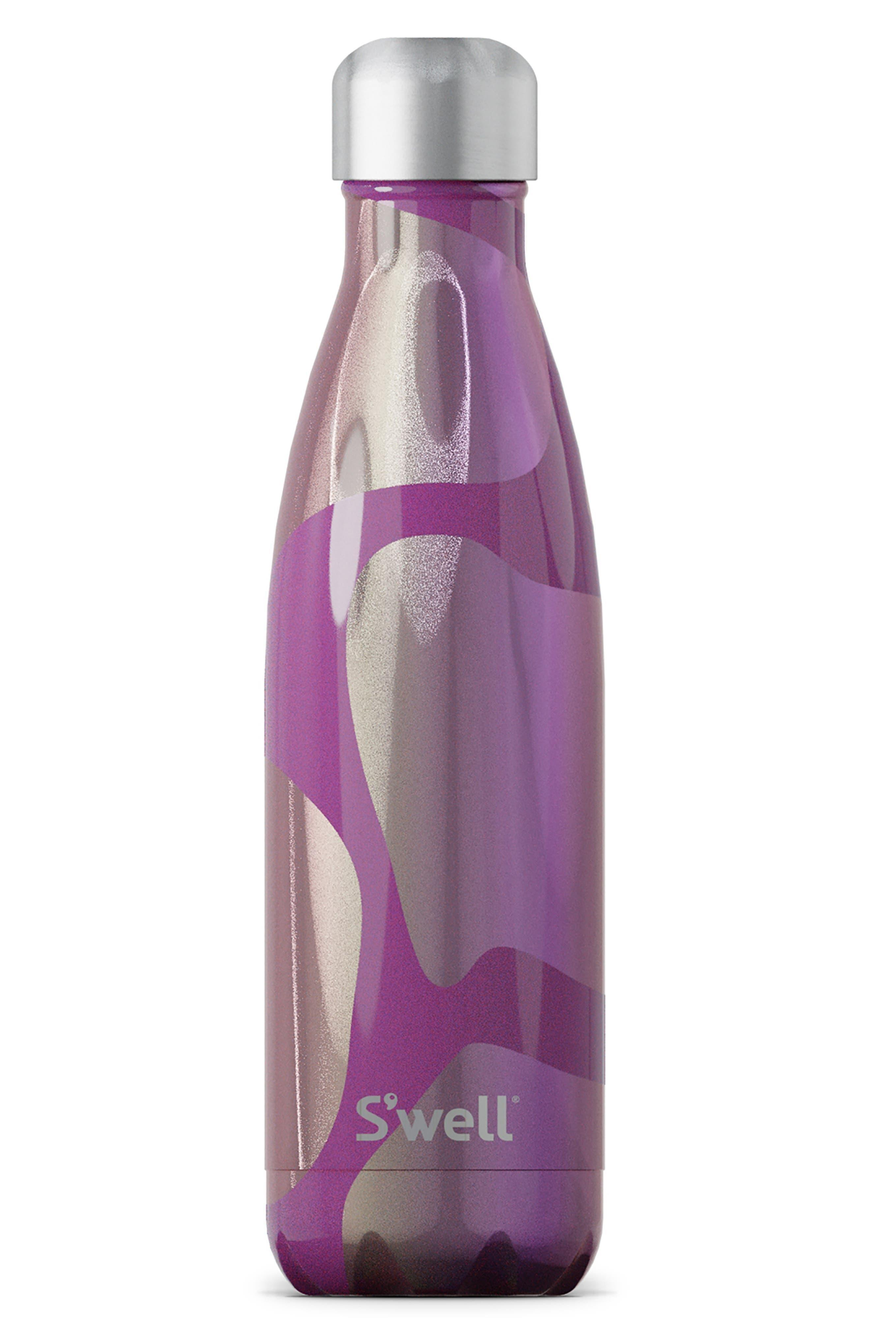gym bottle: (250, 21, 619, 1309)
